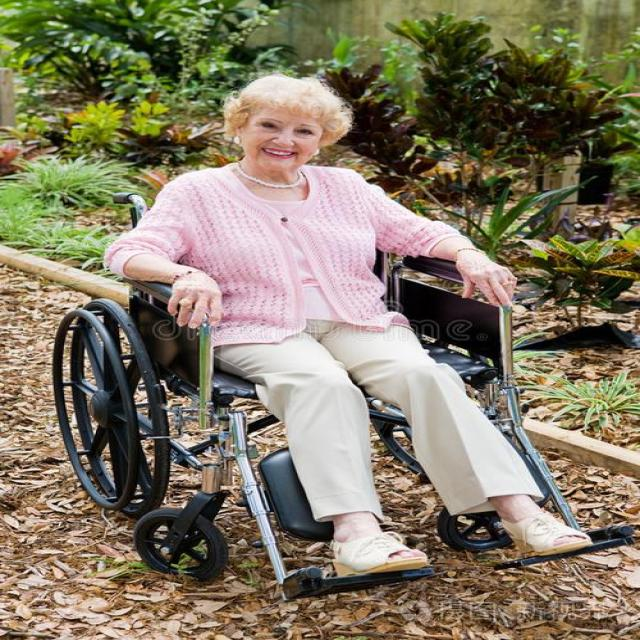wheelchairs: (39, 179, 640, 606)
